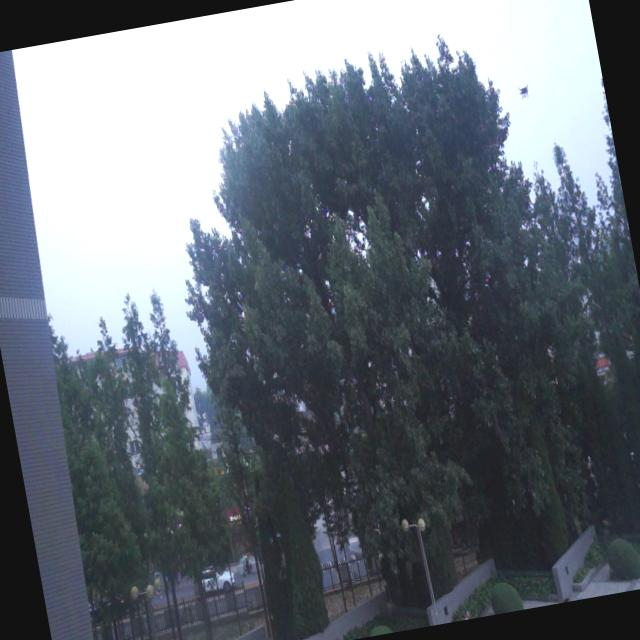drone: (515, 78, 534, 102)
